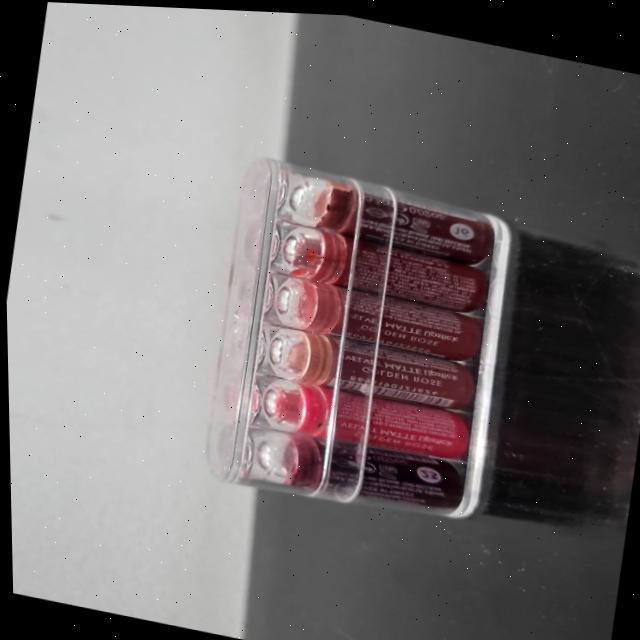lip shade: (250, 159, 505, 265), (200, 415, 462, 513), (210, 366, 472, 462), (232, 216, 482, 313), (226, 269, 479, 364), (218, 317, 471, 412)
